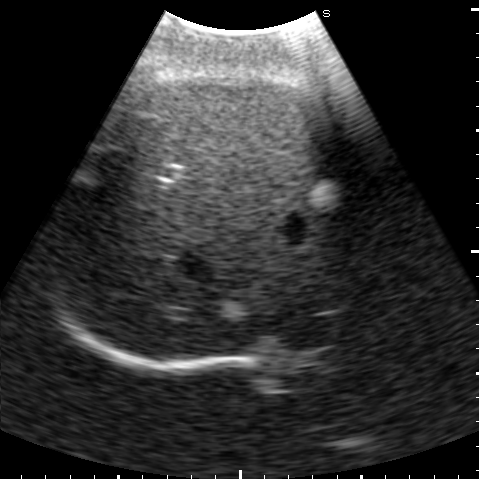S5: (125, 76, 344, 182)
S7: (48, 144, 173, 311)
S8: (118, 165, 374, 360)
Tumor: (309, 181, 339, 211), (221, 302, 245, 320)
